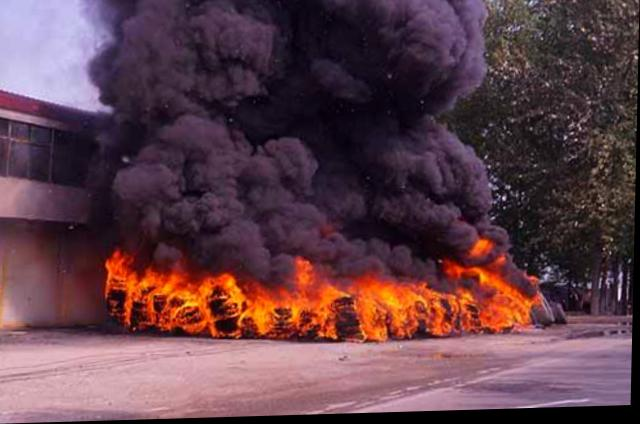fire: (355, 276, 385, 343), (238, 279, 271, 330), (386, 284, 416, 340), (289, 254, 314, 319), (497, 287, 530, 330), (102, 250, 133, 290), (142, 266, 176, 296), (313, 302, 339, 340), (316, 281, 345, 301), (481, 301, 499, 333), (446, 291, 471, 313), (199, 273, 231, 290), (173, 288, 199, 308), (428, 304, 444, 336), (226, 274, 242, 304), (160, 309, 181, 330), (471, 238, 492, 259), (415, 283, 434, 304), (478, 271, 500, 289), (123, 291, 134, 324), (274, 289, 291, 309), (445, 262, 461, 278)
